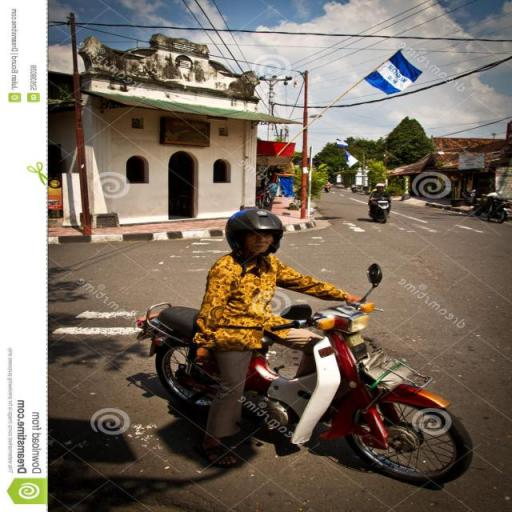Helmet: (226, 209, 283, 255), (376, 183, 385, 187)
Motor: (242, 264, 471, 483), (470, 192, 511, 223), (369, 193, 390, 223), (461, 190, 476, 205), (324, 181, 331, 191), (351, 184, 358, 192)
